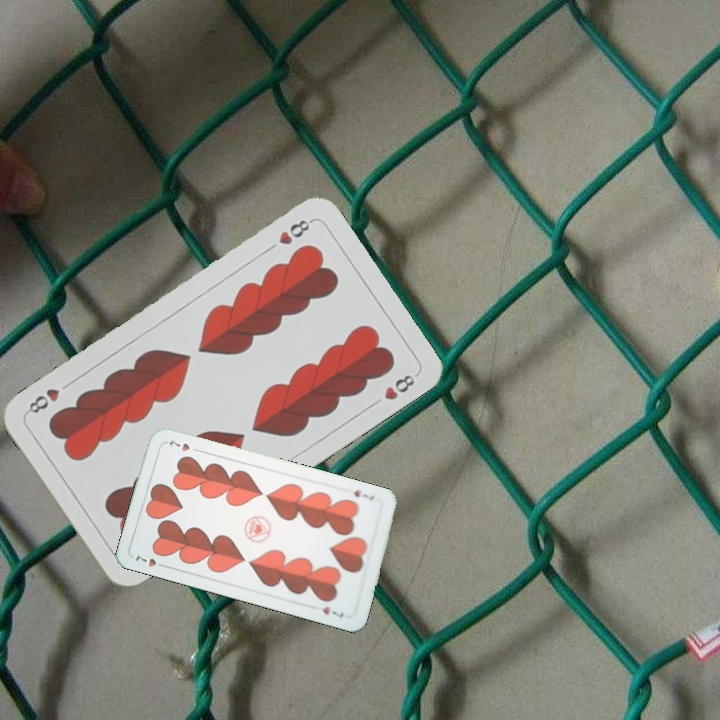H7: (131, 551, 170, 570), (350, 486, 377, 503)
H8: (274, 215, 316, 248)
